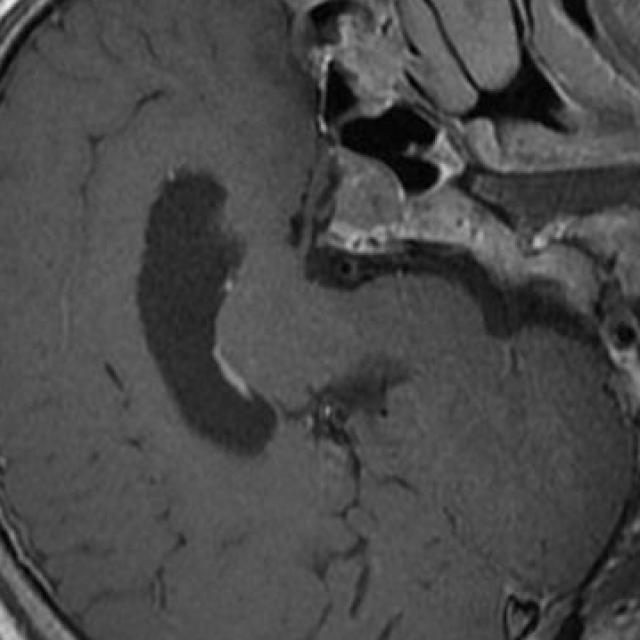pituitary: (335, 148, 405, 232)
